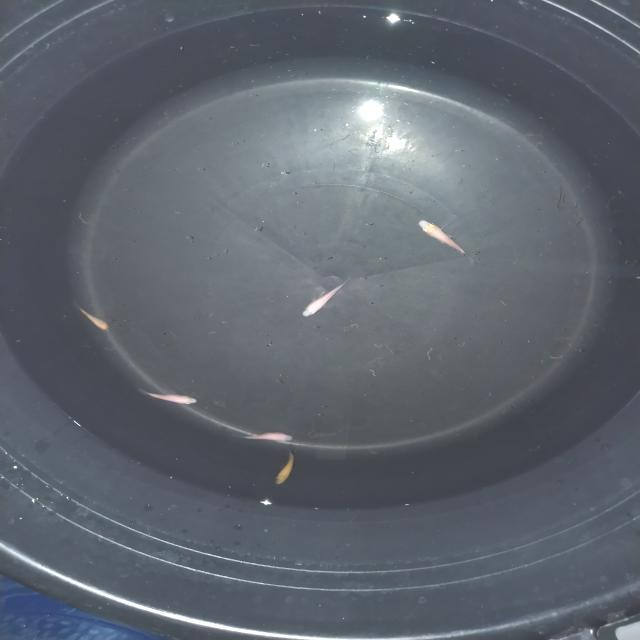nila: (414, 217, 476, 264), (300, 276, 352, 319), (266, 448, 310, 488), (142, 389, 202, 409), (74, 304, 112, 333), (238, 428, 304, 443)
